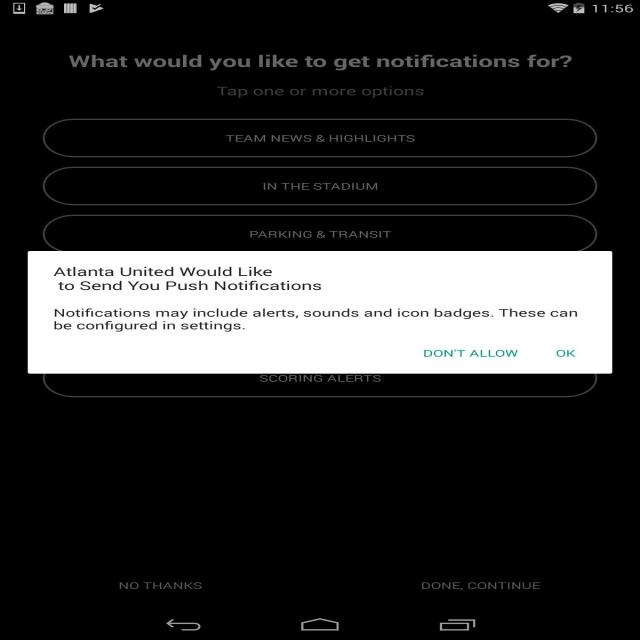button: (44, 165, 597, 207), (40, 214, 597, 255), (44, 118, 600, 158), (393, 566, 561, 606), (94, 568, 246, 606), (416, 343, 530, 365), (540, 342, 586, 364)
heading: (63, 50, 579, 74), (42, 266, 324, 292)
text: (52, 308, 581, 334), (215, 83, 428, 100)
